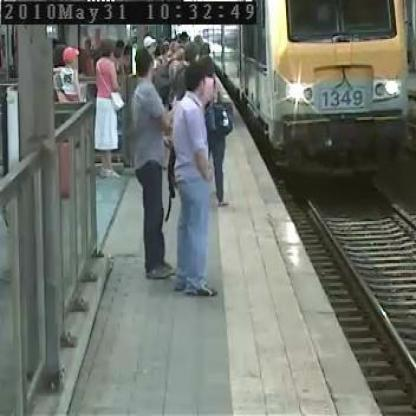other: (283, 64, 311, 118), (376, 74, 402, 102)
